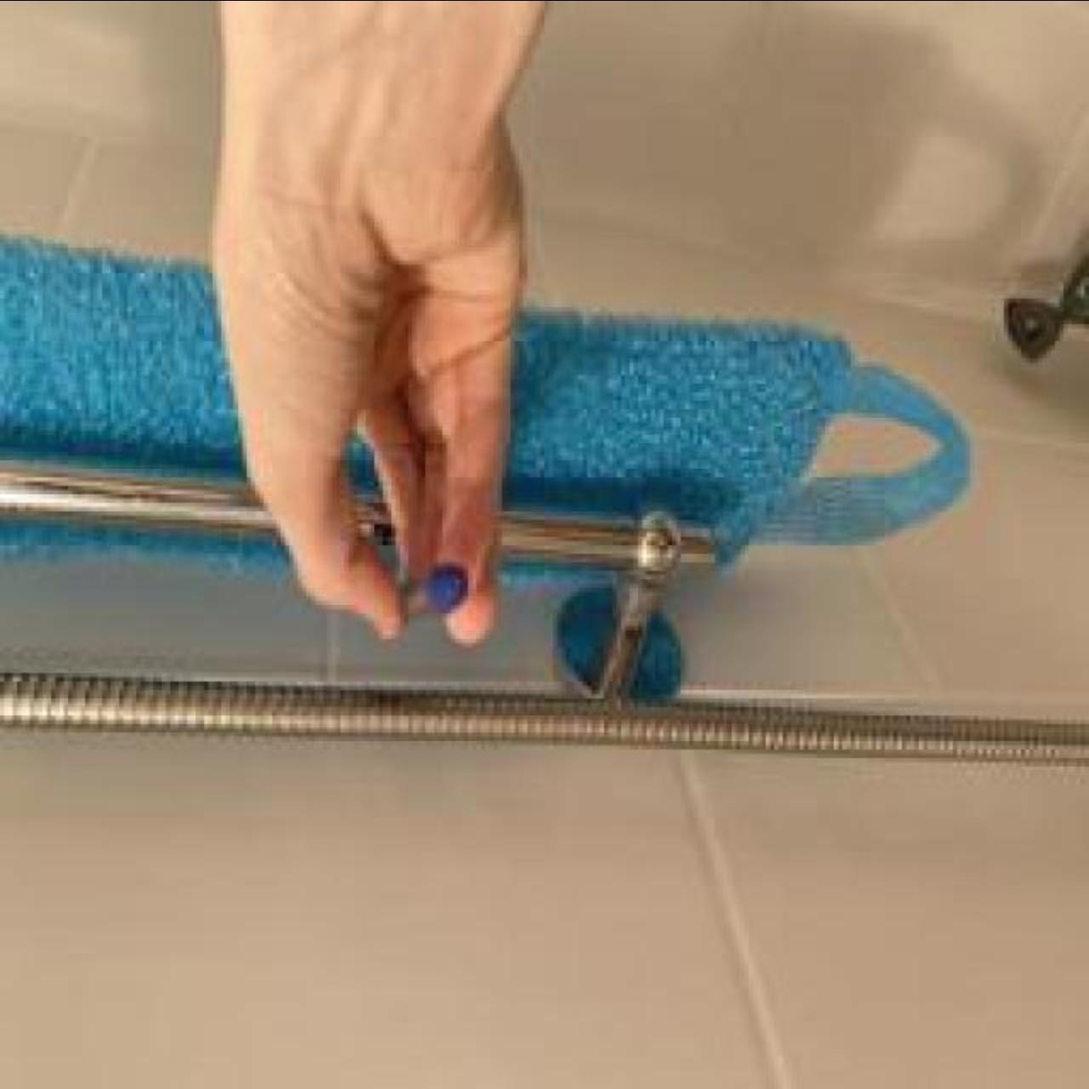pen: (388, 560, 478, 633)
